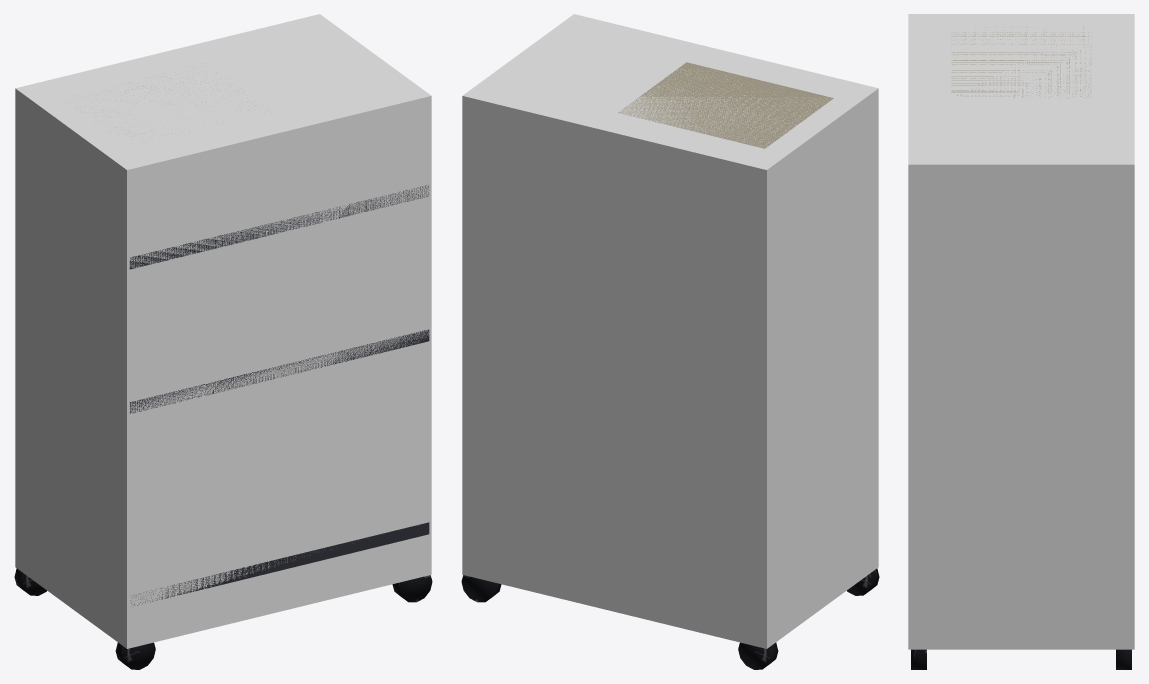
File: Tech_ToolCart.001.gltf
The picture shows the model from 3 angles, left to right: view 1: azimuth 30°, elevation 25°; view 2: azimuth 150°, elevation 25°; view 3: azimuth 270°, elevation 25°; orthographic projection.
Visible parts, largest first — view 1: Tech_ToolCart.001_COL, Tech_ToolCart.001; view 2: Tech_ToolCart.001_COL, Tech_ToolCart.001; view 3: Tech_ToolCart.001_COL, Tech_ToolCart.001.
Part boxes in pixels (left/top/right/bottom): Tech_ToolCart.001_COL: left=15, top=14, right=431, bottom=648; Tech_ToolCart.001: left=14, top=66, right=432, bottom=669; Tech_ToolCart.001_COL: left=462, top=14, right=878, bottom=648; Tech_ToolCart.001: left=461, top=62, right=879, bottom=669; Tech_ToolCart.001_COL: left=908, top=14, right=1134, bottom=649; Tech_ToolCart.001: left=911, top=25, right=1131, bottom=669.
Bounding box in the file's own units: 0.67 × 1.04 × 0.42.
Materials: 8 (3 with a texture image).
